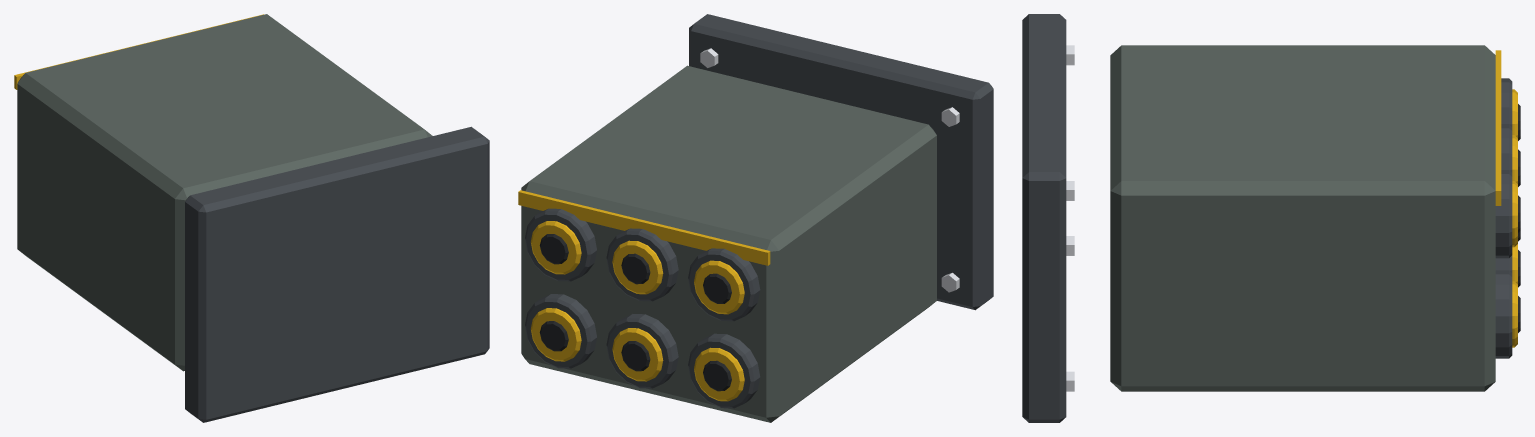
Rendered from decoy_launcher.glb.
3 views of the same model, side by side, from view 1: azimuth 30°, elevation 25°; view 2: azimuth 150°, elevation 25°; view 3: azimuth 270°, elevation 25° (orthographic). The views are drawn at different scales.
Visible parts, largest first — view 1: decoy_launcher; view 2: decoy_launcher; view 3: decoy_launcher.
Boxes of the visible parts, <box> form: decoy_launcher: <box>14,14,489,422</box>; decoy_launcher: <box>518,14,993,422</box>; decoy_launcher: <box>1022,14,1520,422</box>.
Bounding box in the file's own units: 0.7 × 0.5 × 0.9.
